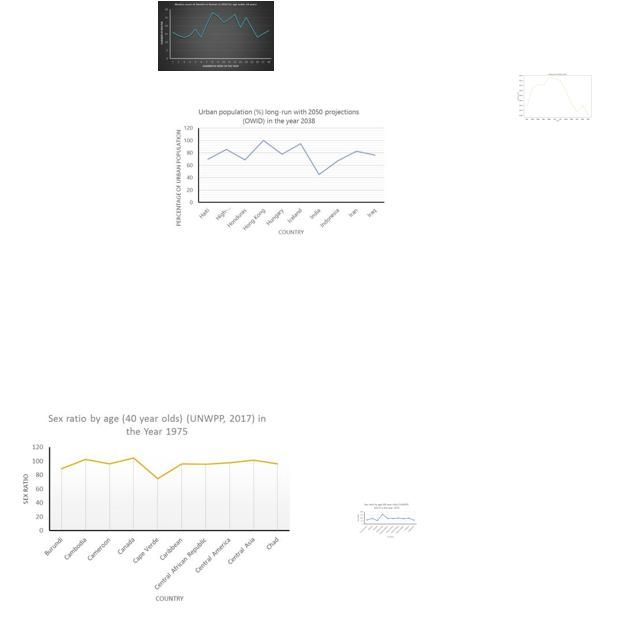Graph: (18, 408, 293, 603), (170, 105, 388, 236), (158, 1, 274, 71), (513, 66, 600, 126), (356, 502, 418, 539)
